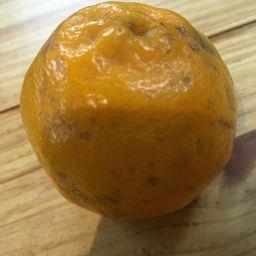Unripe: (21, 1, 239, 219)
